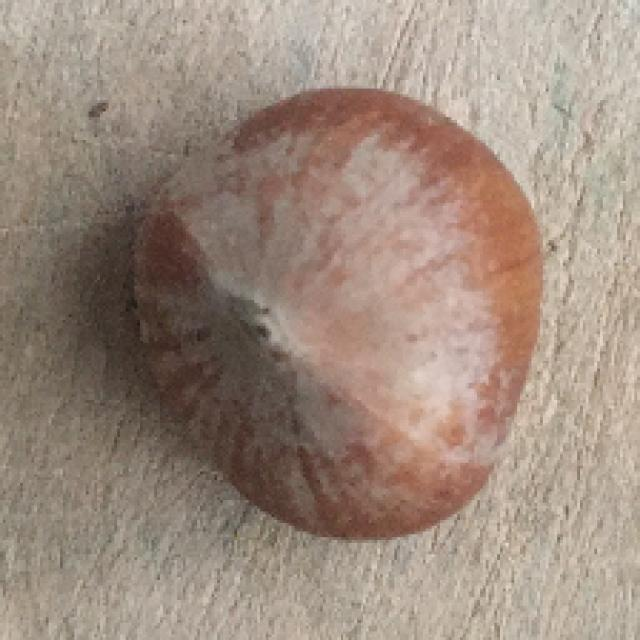qualityHazelnut: (133, 82, 548, 540)
